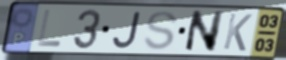3: (71, 8, 102, 50)
J: (111, 10, 143, 50)
K: (221, 12, 254, 53)
L: (35, 8, 64, 49)
N: (182, 9, 226, 53)
S: (142, 10, 180, 52)
